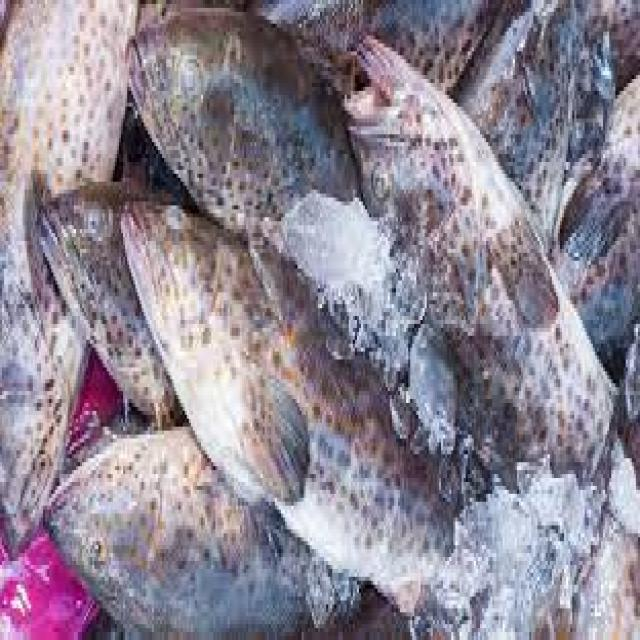grouper: (114, 182, 463, 618), (337, 28, 620, 530), (0, 0, 137, 561), (42, 406, 360, 640), (119, 0, 363, 269)
